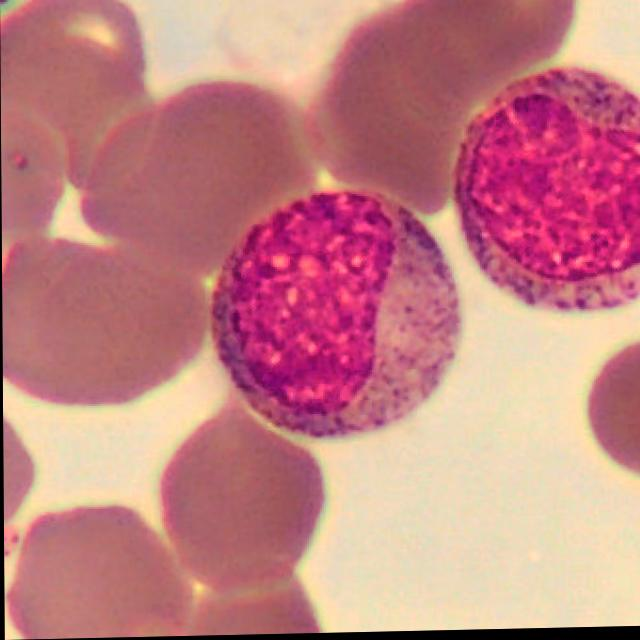Mielocito: (211, 192, 457, 440), (455, 69, 640, 315)
